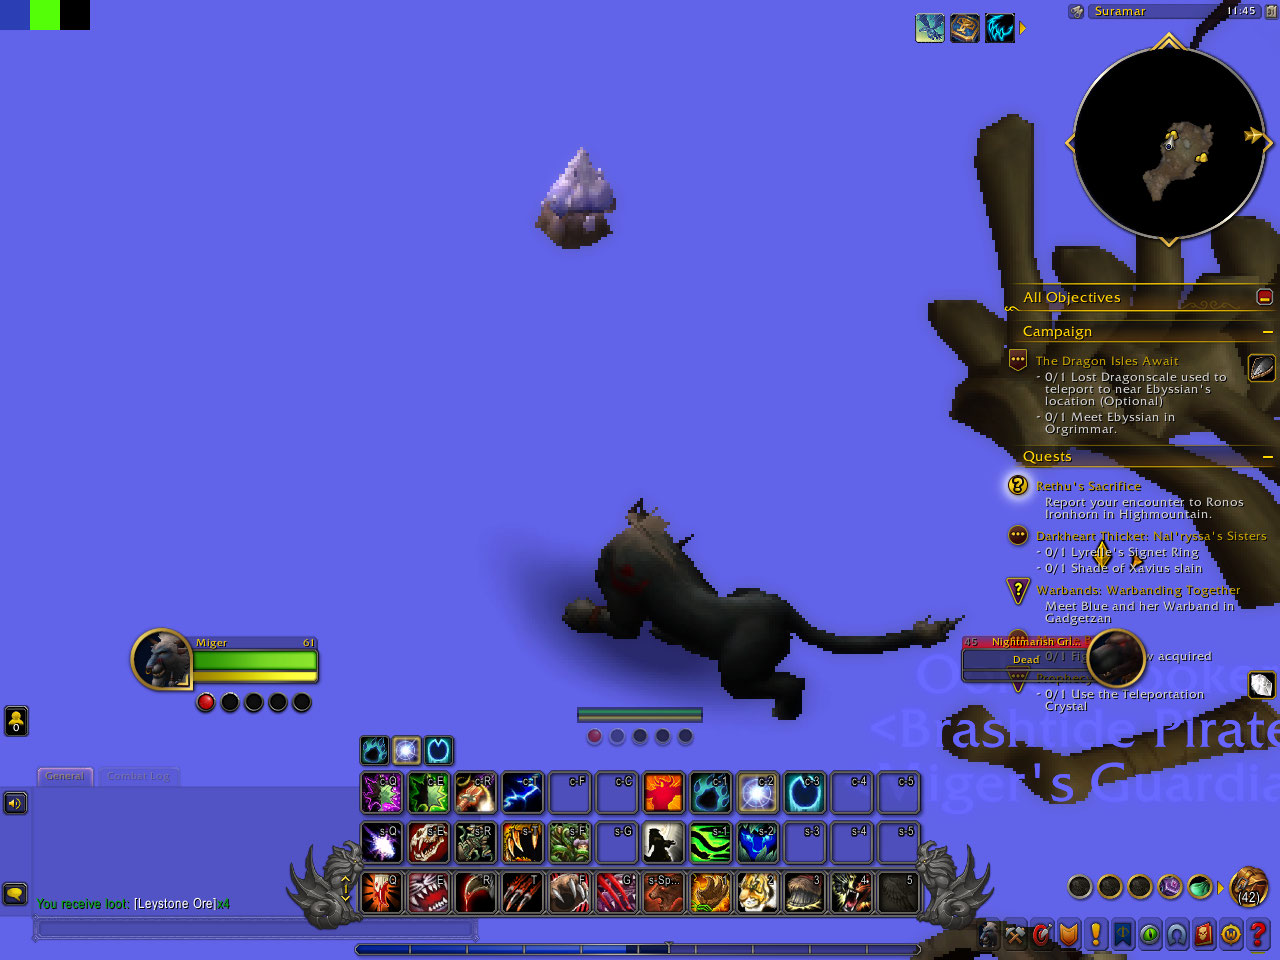ore: (538, 148, 618, 252)
